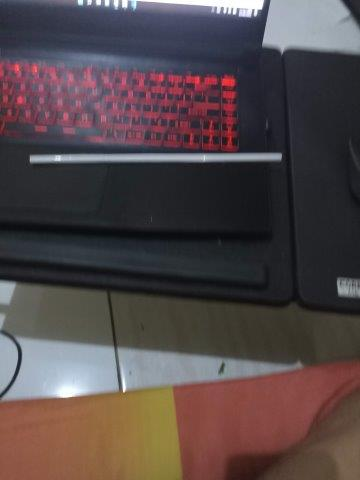sedotan: (28, 153, 282, 165)
